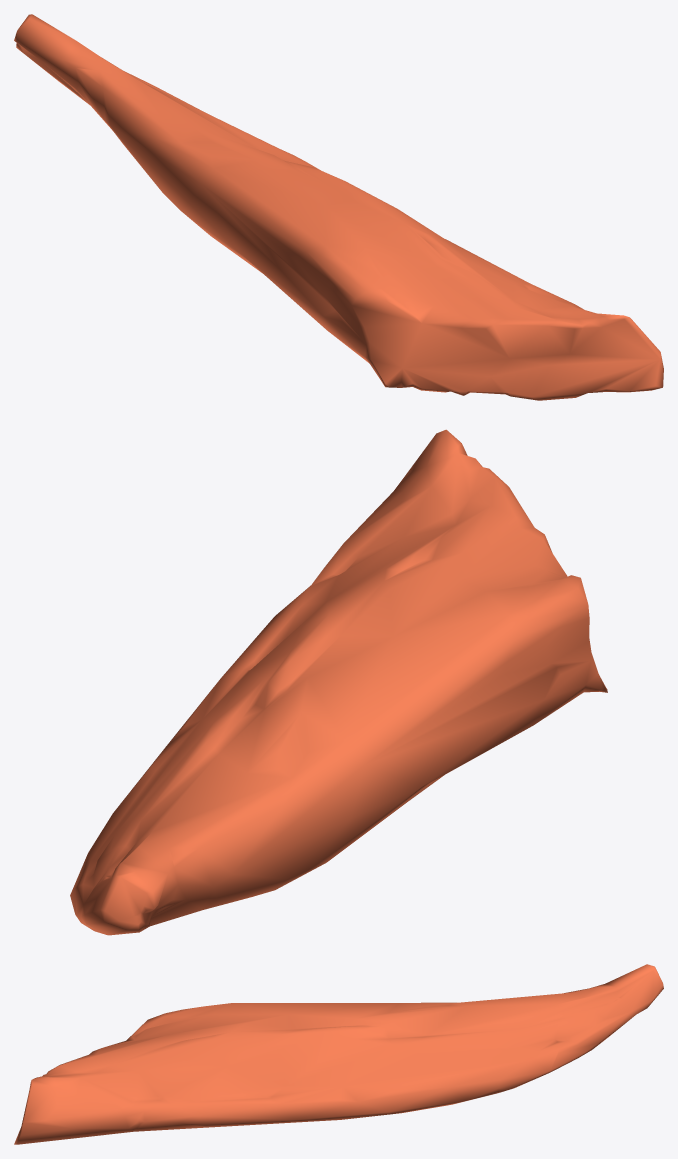
File: Anterior_belly_of_digastric_muscle.r_Generated_Mesh_From_X3D.10.glb
The picture shows the model from 3 angles, top to bottom: view 1: azimuth 30°, elevation 25°; view 2: azimuth 150°, elevation 25°; view 3: azimuth 270°, elevation 25°; orthographic projection. The views are drawn at different scales.
Visible parts, largest first — view 1: Anterior_belly_of_digastric_muscle.r_Generated_Mesh_From_X3D; view 2: Anterior_belly_of_digastric_muscle.r_Generated_Mesh_From_X3D; view 3: Anterior_belly_of_digastric_muscle.r_Generated_Mesh_From_X3D.
Part boxes in pixels (x1,y1,x2,y2): Anterior_belly_of_digastric_muscle.r_Generated_Mesh_From_X3D: [14, 14, 663, 400]; Anterior_belly_of_digastric_muscle.r_Generated_Mesh_From_X3D: [70, 429, 607, 935]; Anterior_belly_of_digastric_muscle.r_Generated_Mesh_From_X3D: [14, 964, 663, 1144].
Bounding box in the file's own units: 0.012 × 0.00634 × 0.0358.
